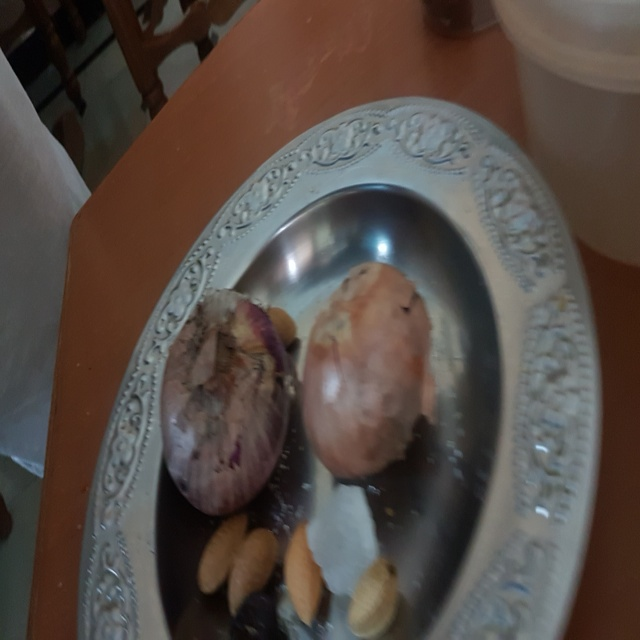onion: (288, 260, 461, 473), (159, 296, 297, 517)
